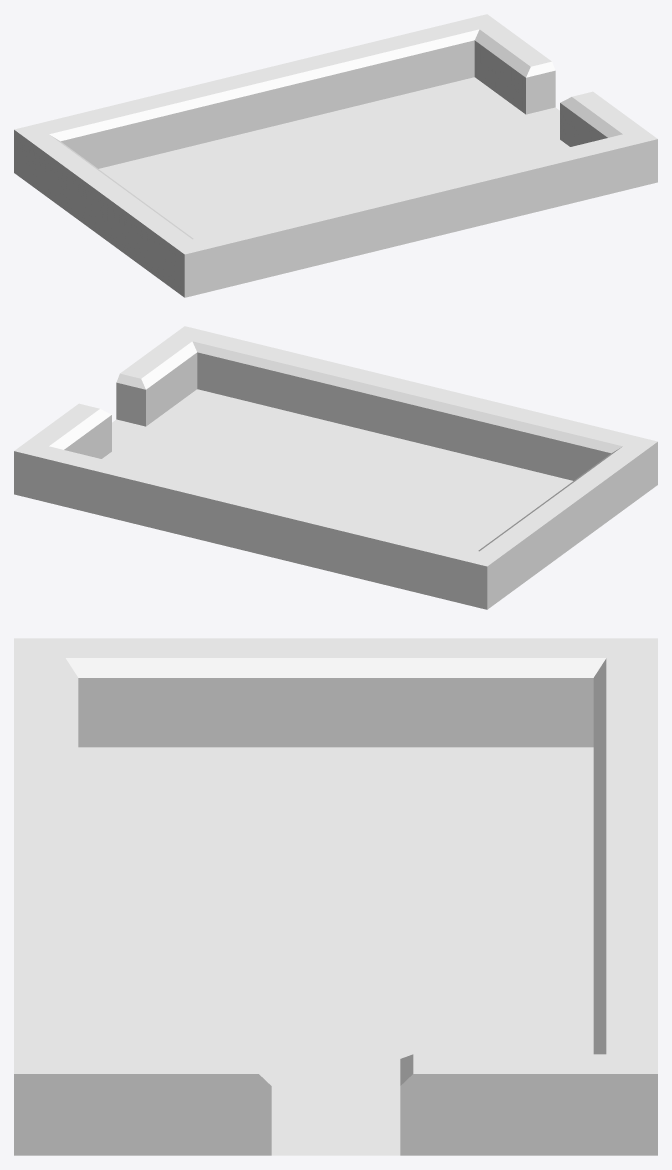
File: Room31.obj
The picture shows the model from 3 angles, top to bottom: view 1: azimuth 30°, elevation 25°; view 2: azimuth 150°, elevation 25°; view 3: azimuth 270°, elevation 25°; orthographic projection. The views are drawn at different scales.
Parts seen in each view (by area): view 1: room_3x9; view 2: room_3x9; view 3: room_3x9.
Part boxes in pixels (box(x1,y1,x2,y2)): room_3x9: box(14, 14, 657, 297); room_3x9: box(14, 326, 657, 609); room_3x9: box(14, 638, 657, 1155).
Size of what is drawn, in the model's own units: 80 by 7 by 50.
